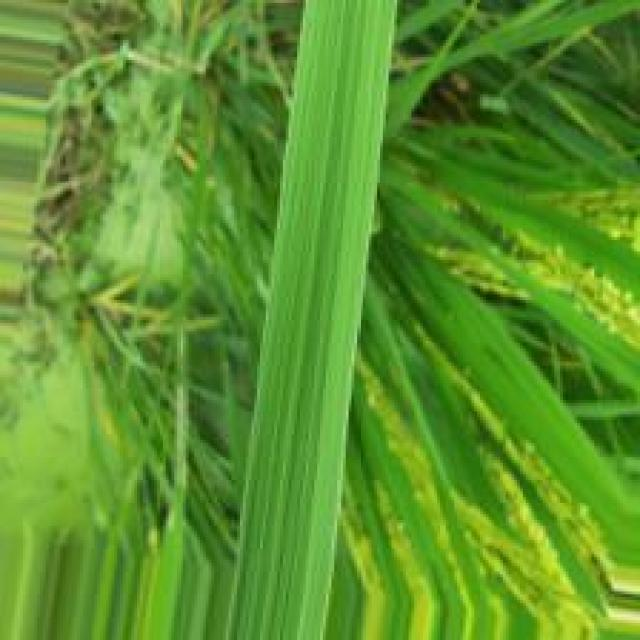HealthyLeaf: (222, 0, 403, 640)
